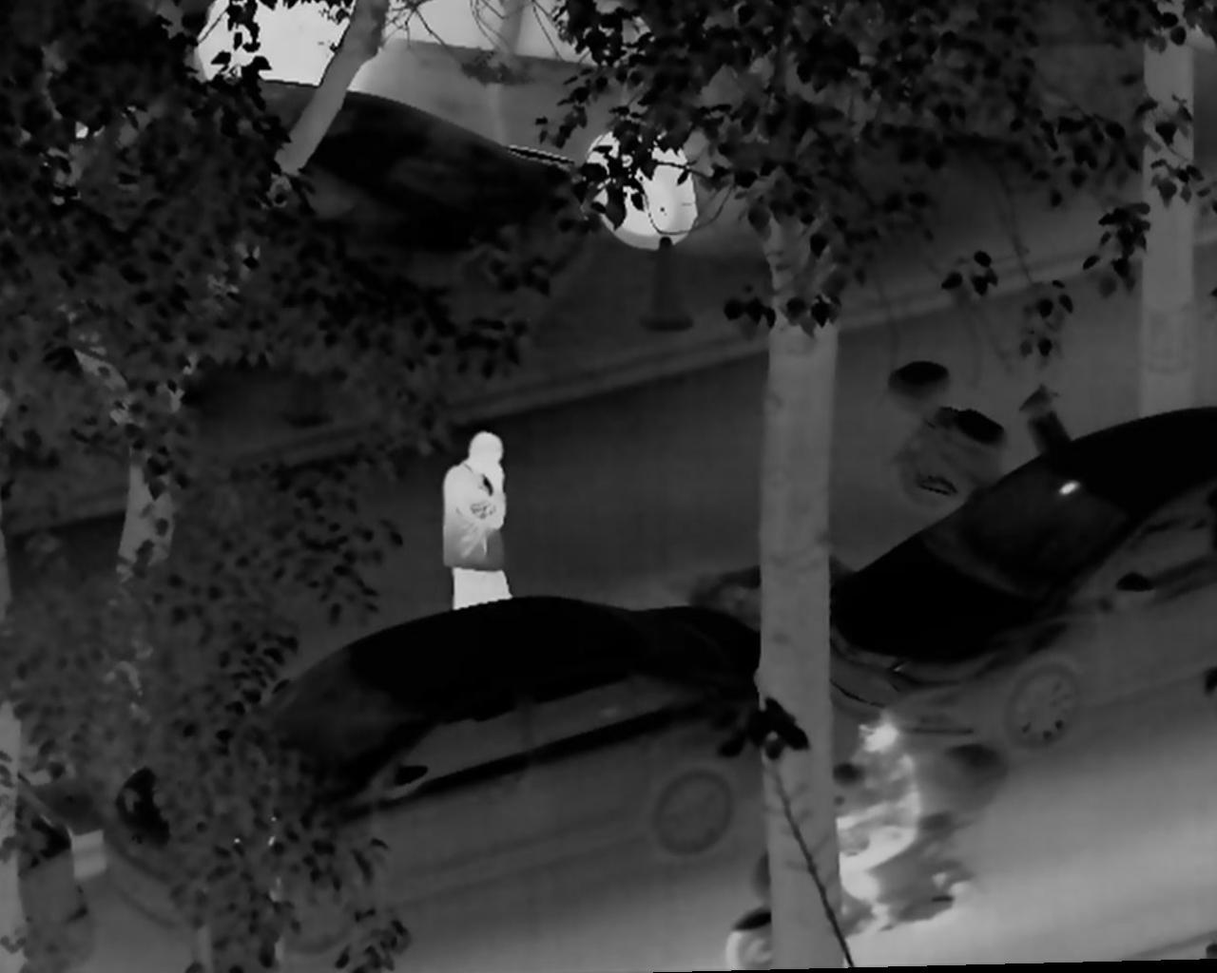person: (831, 703, 924, 940), (429, 425, 522, 616)
